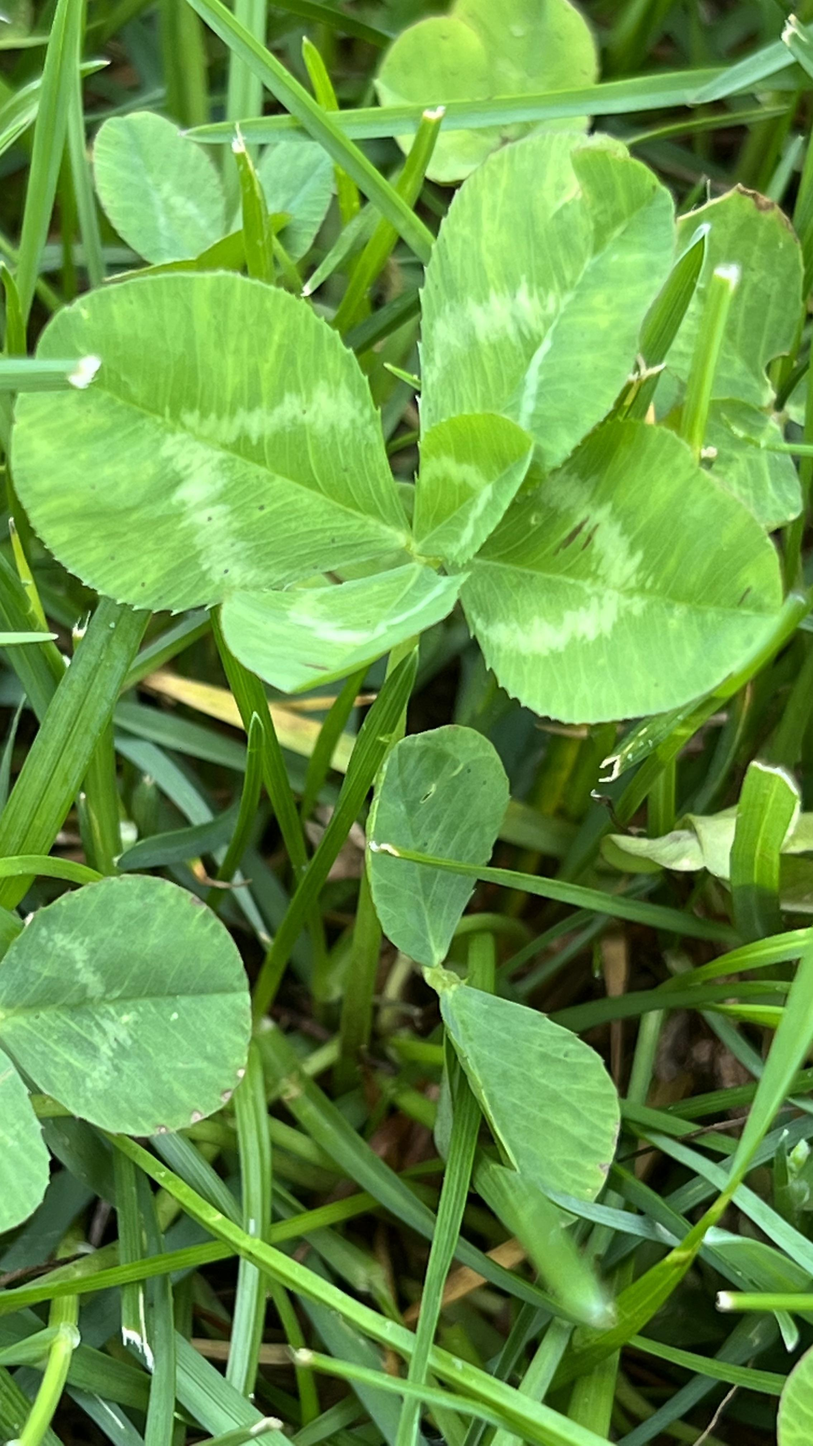5-Leaf-Clovers: (78, 53, 405, 1436)
